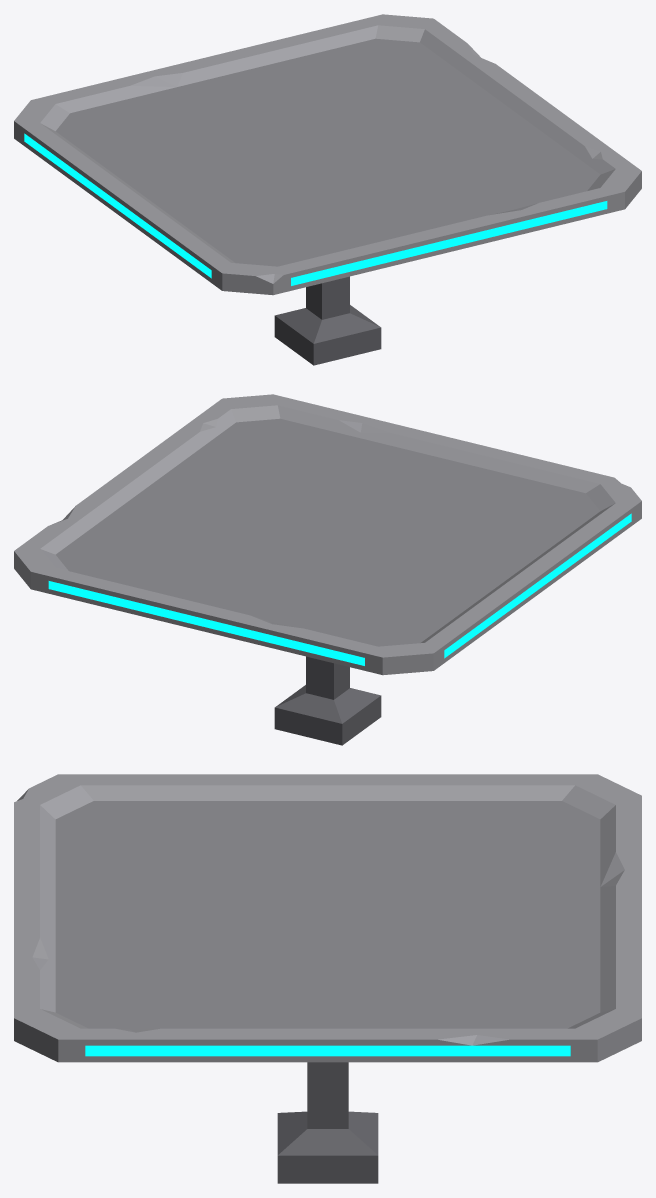
File: SM_Prop_SquareTable_01.fbx
3 renders of one model, top to bottom at view 1: azimuth 30°, elevation 25°; view 2: azimuth 150°, elevation 25°; view 3: azimuth 270°, elevation 25°, orthographic. The views are drawn at different scales.
Parts seen in each view (by area): view 1: SM_Prop_SquareTable_01_LOD0; view 2: SM_Prop_SquareTable_01_LOD0; view 3: SM_Prop_SquareTable_01_LOD0.
Boxes of the visible parts, x1,y1,x2,y2 form: SM_Prop_SquareTable_01_LOD0: (14,14,641,365); SM_Prop_SquareTable_01_LOD0: (14,394,641,745); SM_Prop_SquareTable_01_LOD0: (14,774,641,1183).
Bounding box in the file's own units: 196 × 196 × 87.81.
1 material, 1 textured.
